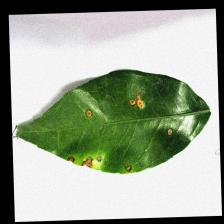canker: (66, 148, 137, 178)
